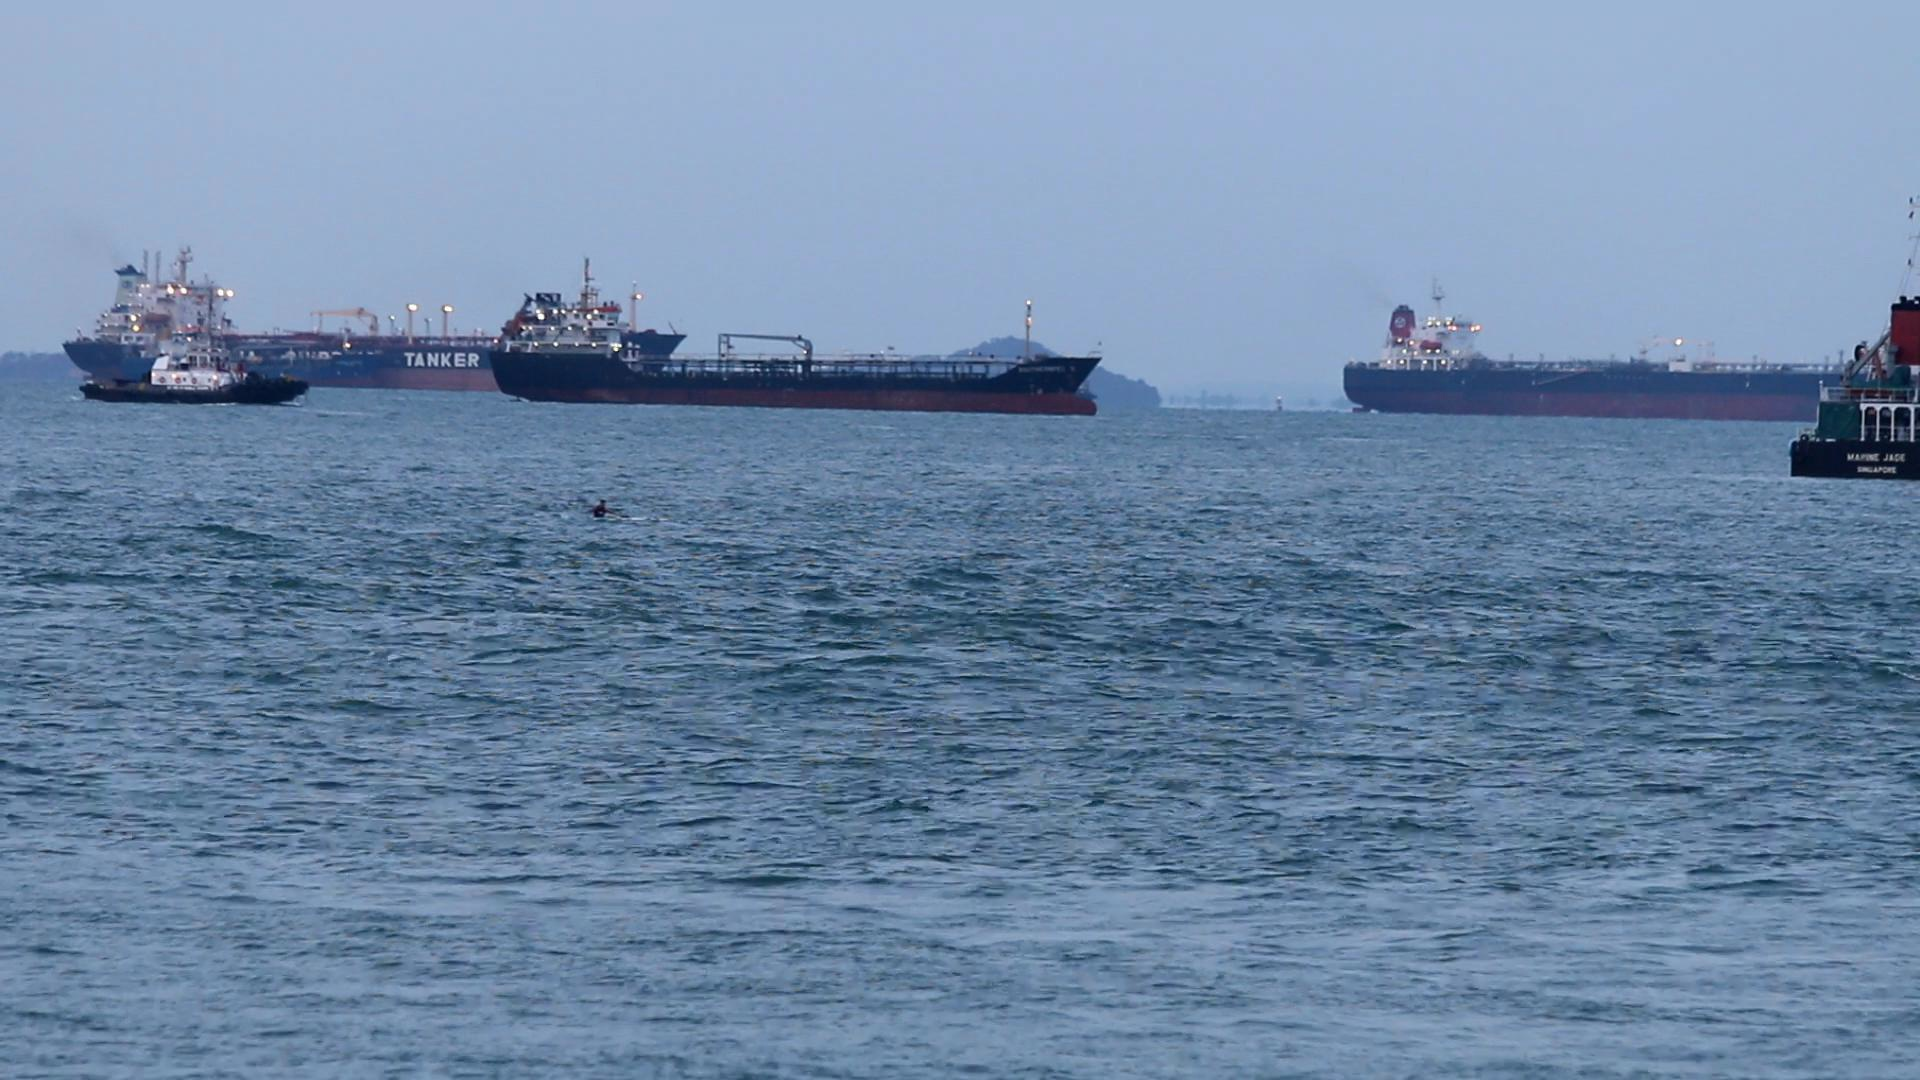Container Ship: (485, 255, 1100, 418), (1344, 277, 1846, 423), (62, 244, 501, 392), (1787, 195, 1920, 484), (1081, 380, 1101, 407)
